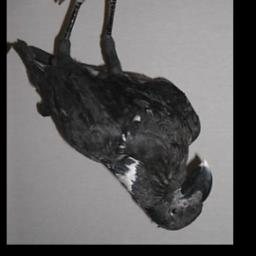Crow: (10, 0, 219, 238)
